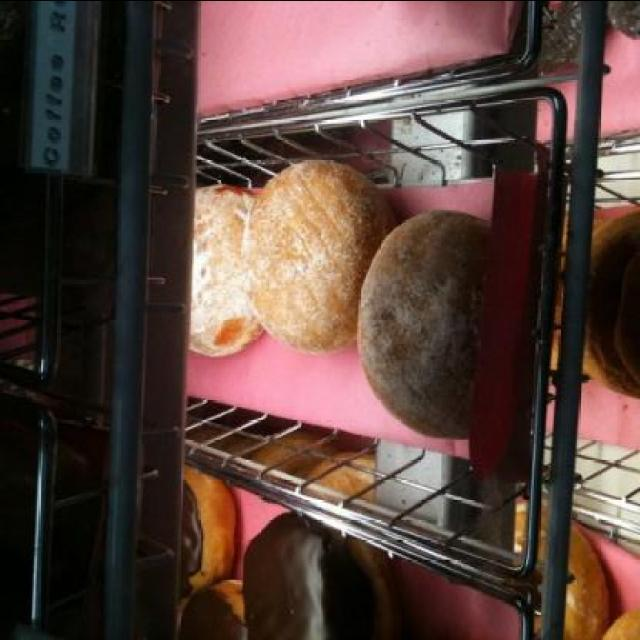Donuts: (175, 106, 633, 634)
